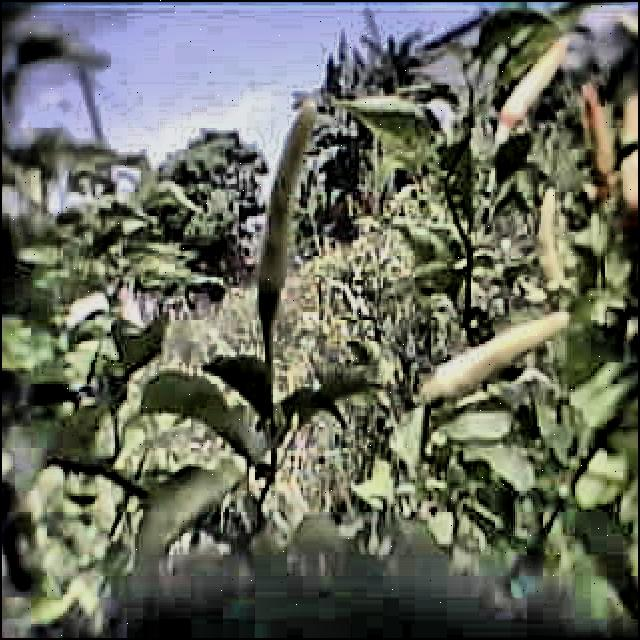Cabai: (500, 27, 572, 144)
